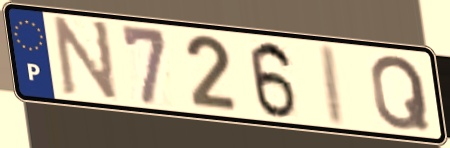2: (187, 33, 243, 116)
6: (246, 38, 299, 121)
7: (118, 21, 170, 108)
I: (321, 42, 349, 129)
N: (52, 14, 120, 106)
Q: (368, 52, 434, 132)
